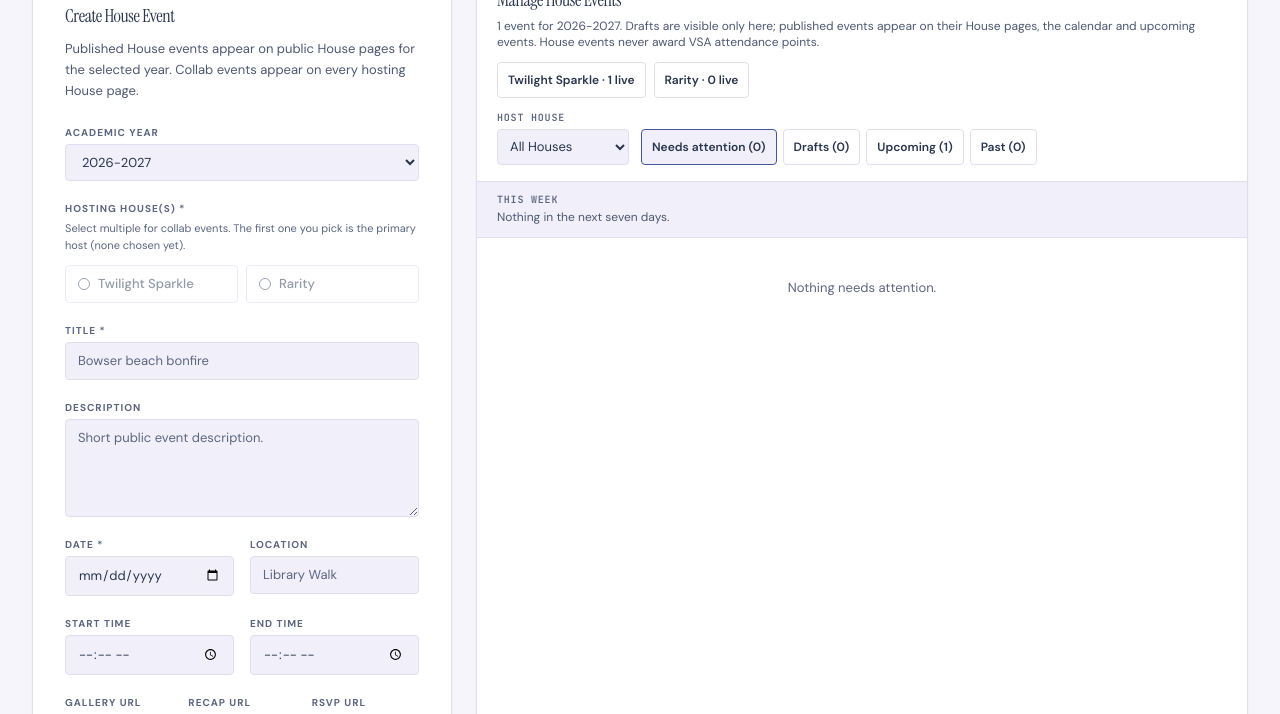
Test: asks before replacing unsaved form edits
This screenshot has width=1280, height=714.
(page scrolled)
Type "Half-typed idea" into the field labelled "Title *" at (242, 361), box x1=65 y1=342 x2=419 y2=380
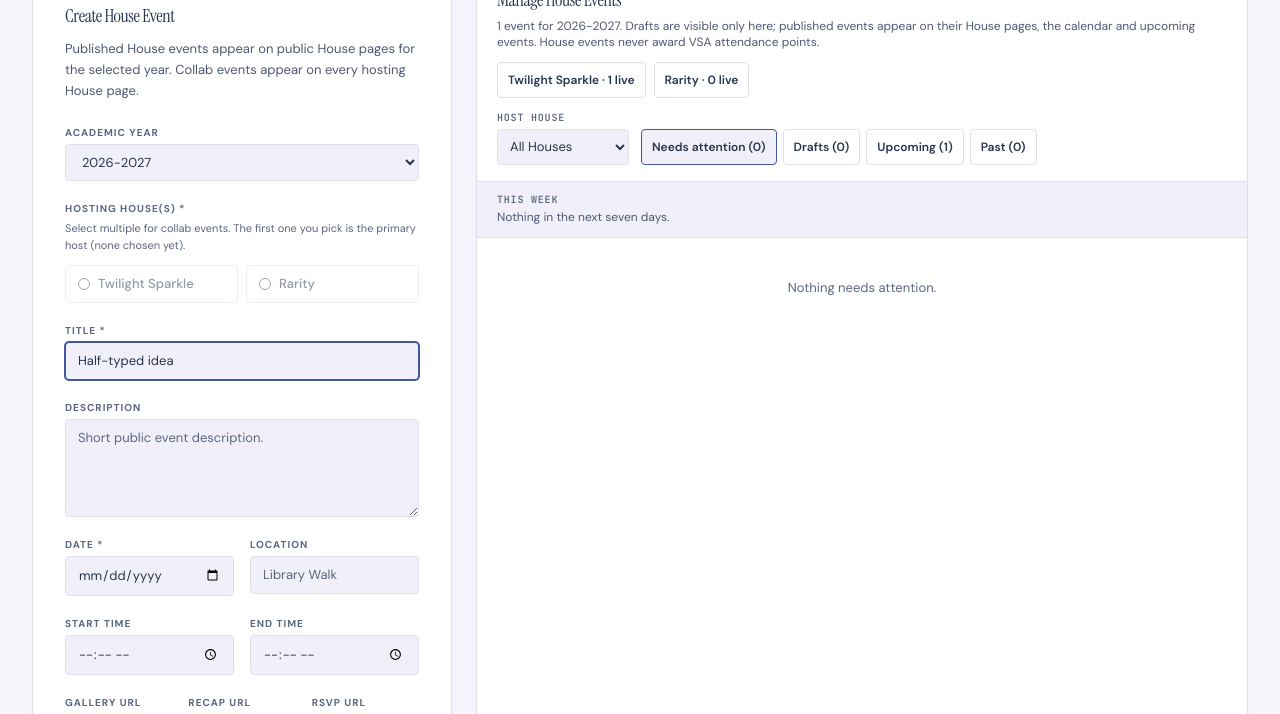
Click the button "Upcoming (1)" at (915, 147), box x1=866 y1=129 x2=964 y2=165
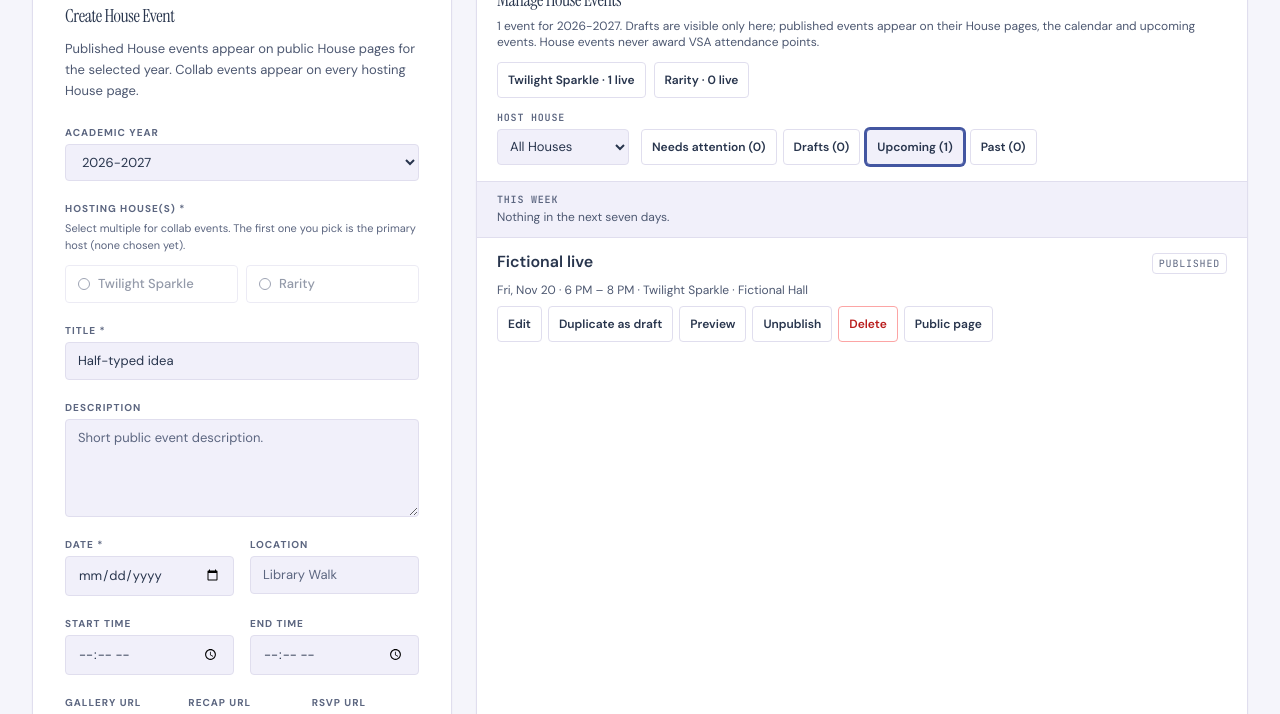
Click the button with aria-label "Edit Fictional live" at (519, 324), box x1=497 y1=306 x2=542 y2=342
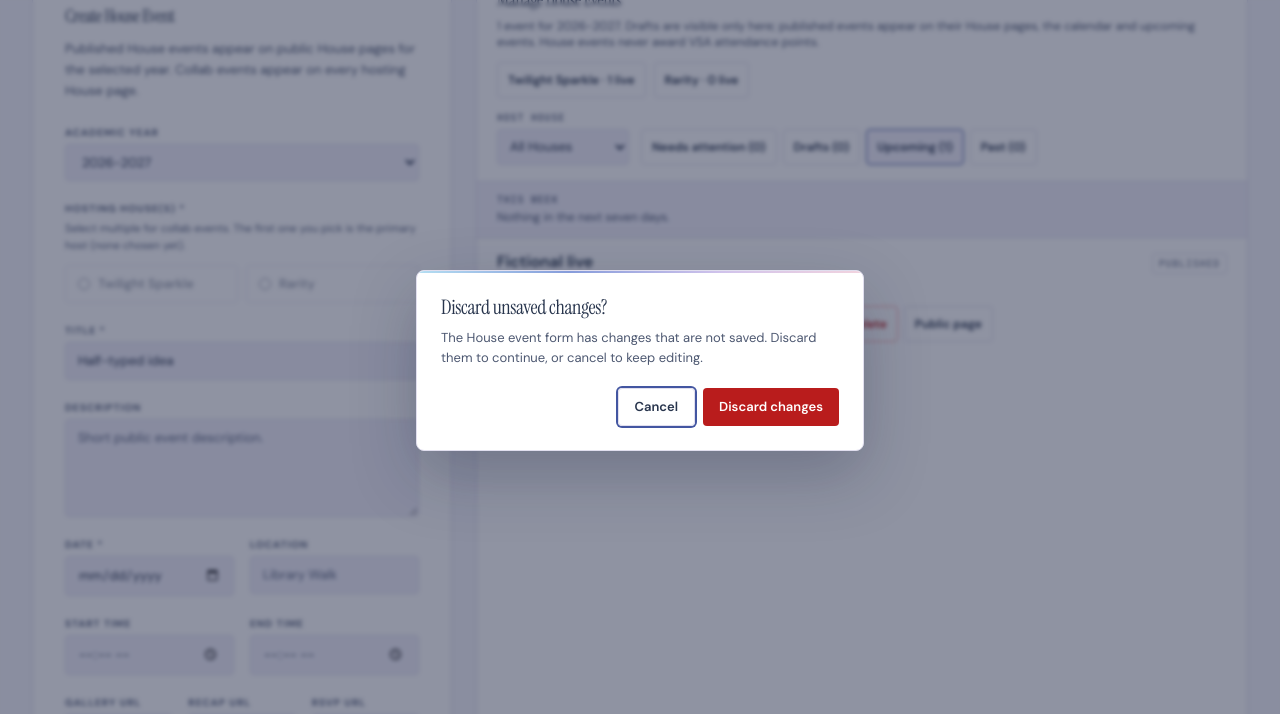
Click the button "Cancel" at (656, 406), box x1=618 y1=388 x2=695 y2=426
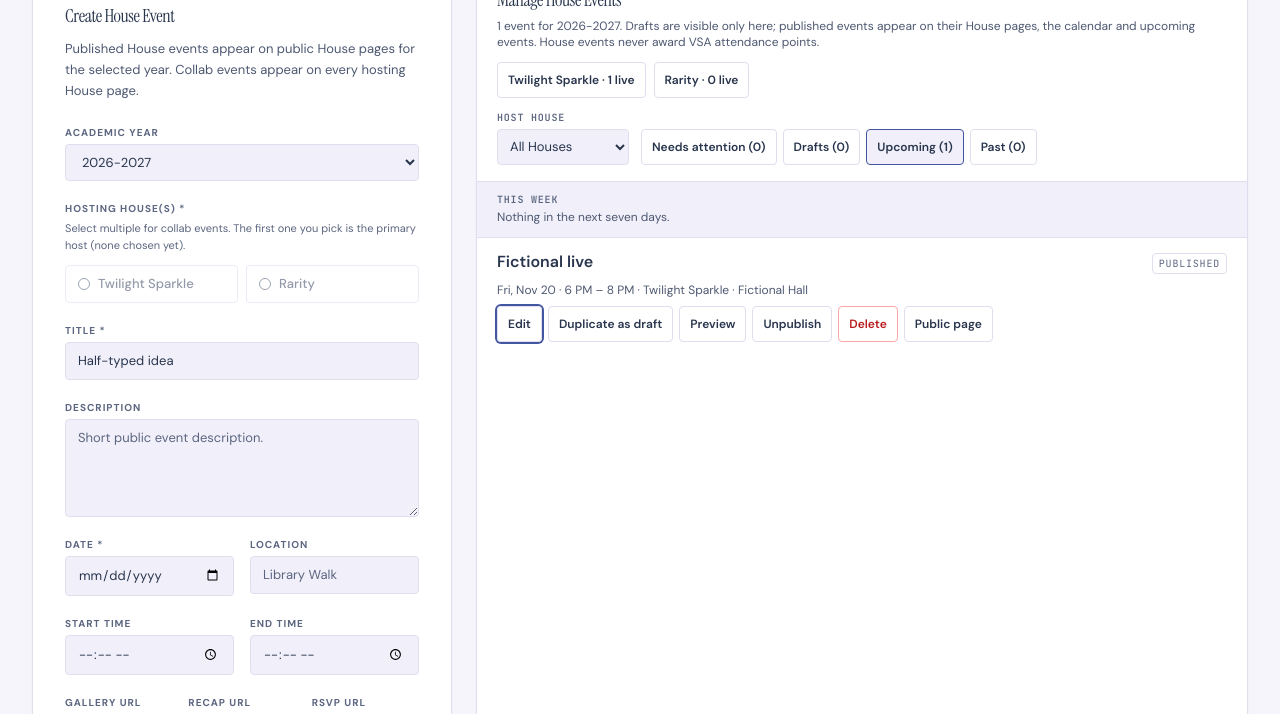
Click the button with aria-label "Edit Fictional live" at (519, 324), box x1=497 y1=306 x2=542 y2=342
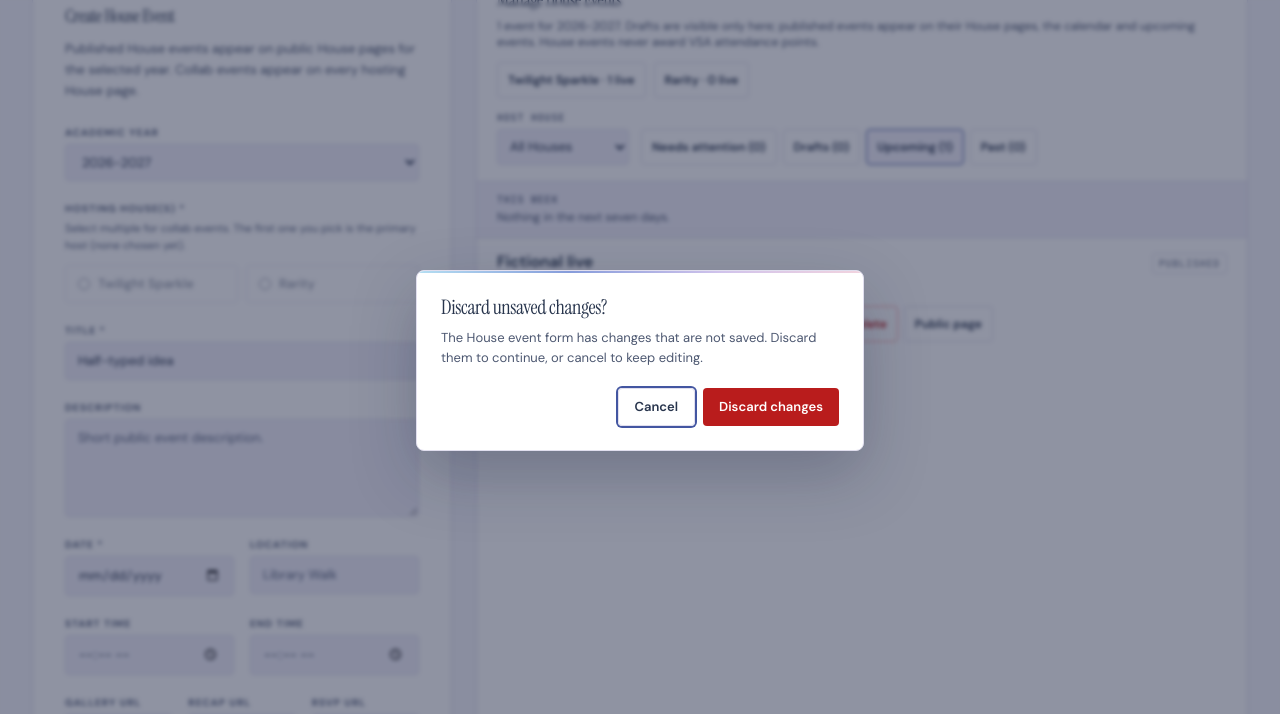
Click the button "Discard changes" at (771, 406), box x1=703 y1=388 x2=839 y2=426
(page scrolled)
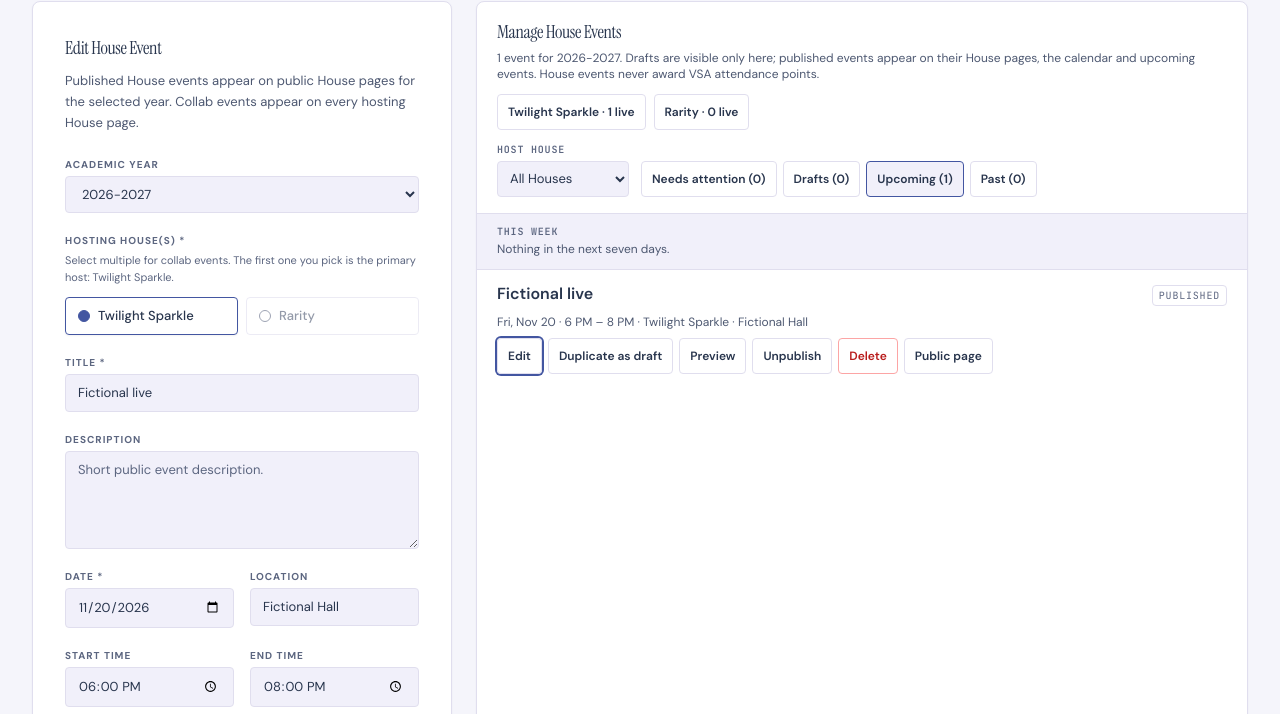
Expected: the field labelled "Title *" holds "Fictional live", x1=65 y1=374 x2=419 y2=412
